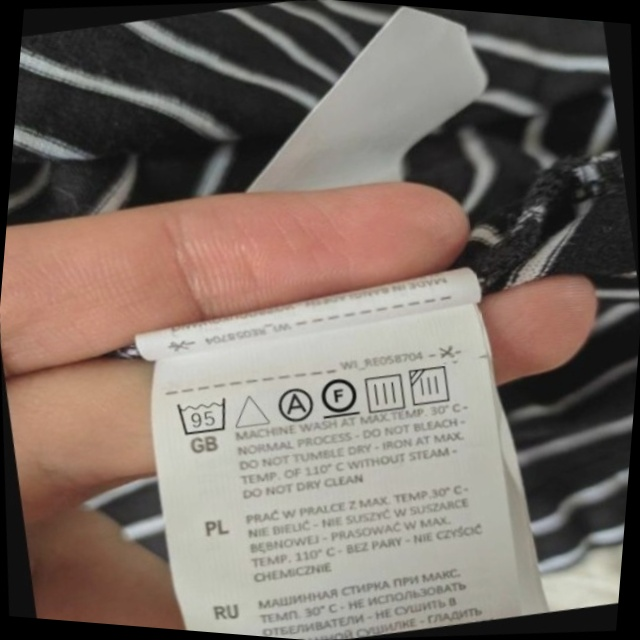95C: (171, 389, 236, 442)
bleach: (228, 385, 273, 435)
drip_dry: (358, 366, 412, 418)
drip_dry_in_shade: (404, 358, 460, 413)
dry_clean: (271, 382, 318, 428)
dry_clean_petrol_only: (315, 368, 365, 424)
